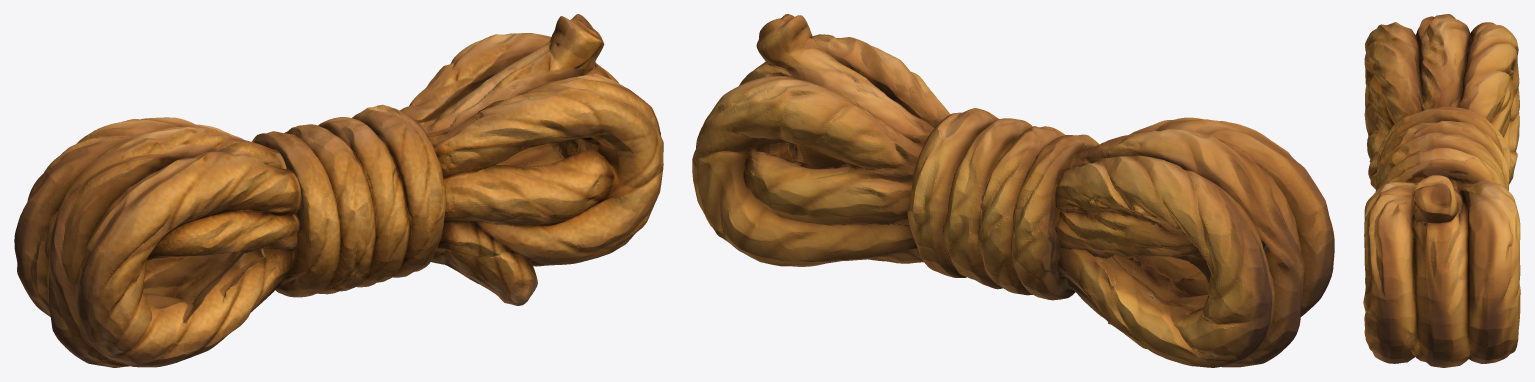
Rendered from Rope.fbx.
3 renders of one model, left to right at view 1: azimuth 30°, elevation 25°; view 2: azimuth 150°, elevation 25°; view 3: azimuth 270°, elevation 25°, orthographic. The views are drawn at different scales.
Parts seen in each view (by area): view 1: temp; view 2: temp; view 3: temp.
Boxes of the visible parts, x1,y1,x2,y2 form: temp: (14,14,663,367); temp: (692,14,1334,367); temp: (1363,14,1520,367).
Bounding box in the file's own units: 200 × 80.05 × 55.59.
Materials: 1 (1 with a texture image).
